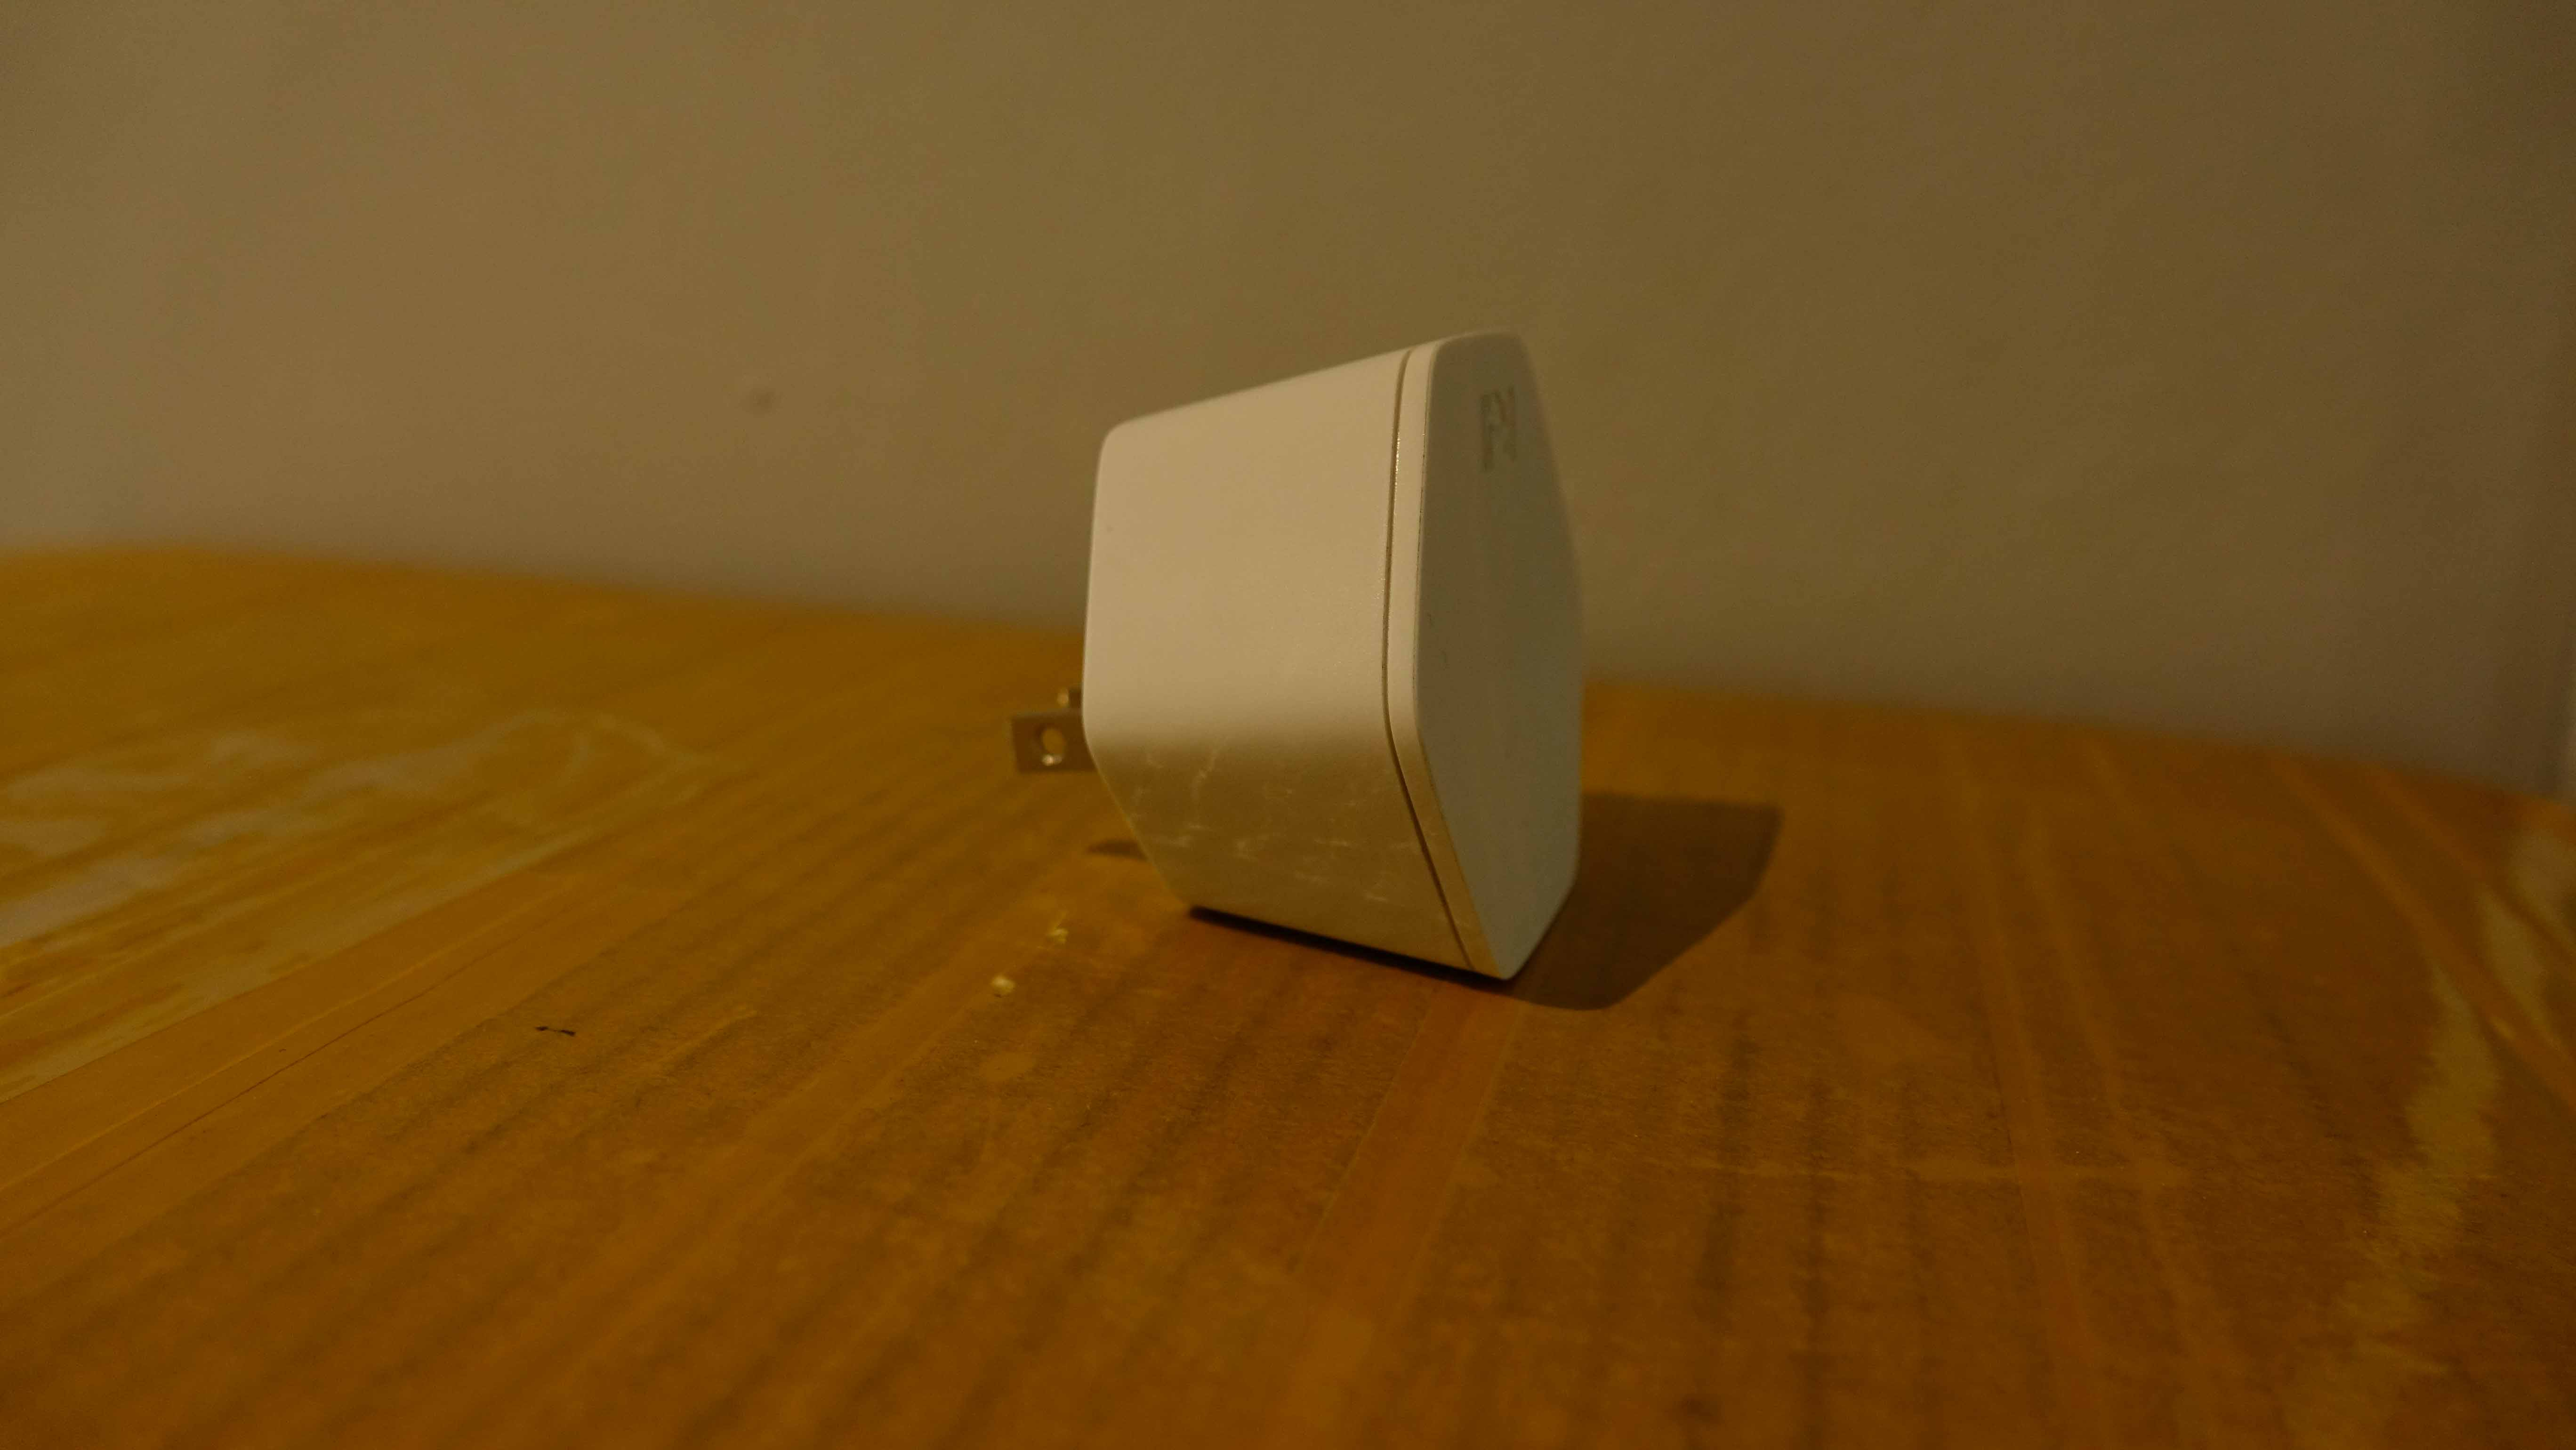pod: (1008, 320, 1615, 997)
